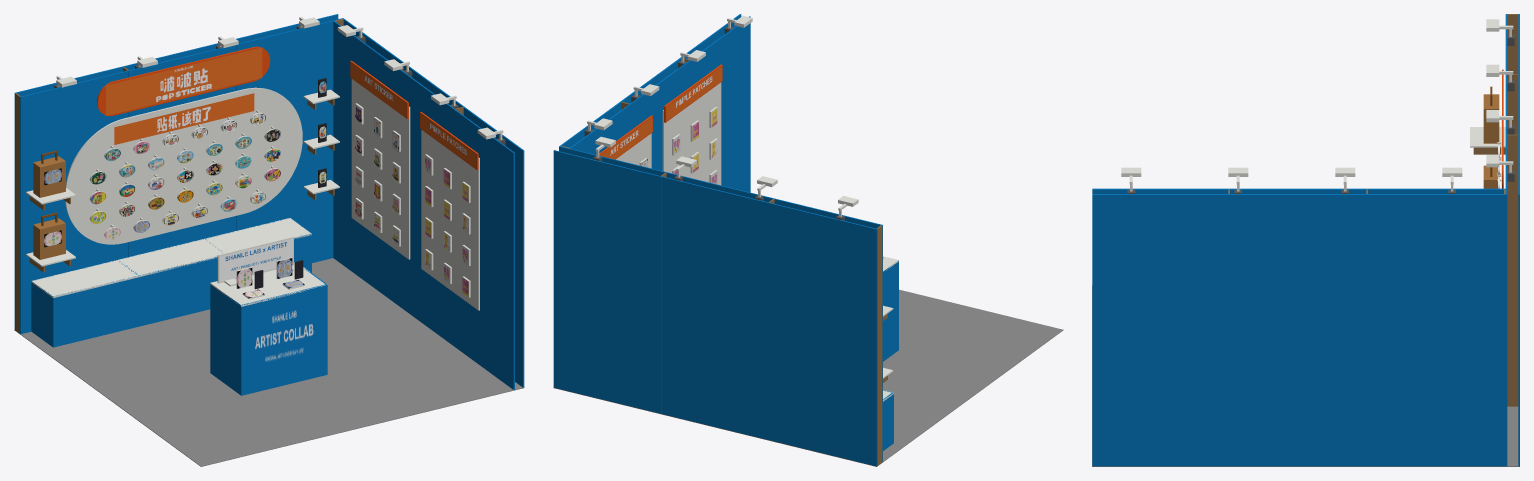
File: booth-textured.glb
3 views of the same model, side by side, from view 1: azimuth 30°, elevation 25°; view 2: azimuth 150°, elevation 25°; view 3: azimuth 270°, elevation 25° (orthographic). The views are drawn at different scales.
Parts seen in each view (by area): view 1: booth, booth_9, booth_5, original_brand_lettering, collab_front, original_slogan_cn, booth_7, booth_6, booth_8, collab_story, art_label, pimple_label; view 2: booth, booth_5, booth_9, booth_6, pimple_label, art_label, booth_8; view 3: booth, booth_6, booth_9, booth_5, booth_7, booth_3.
Part boxes in pixels (bbox=[...]): booth: bbox=[14, 14, 524, 395]; booth_9: bbox=[26, 16, 503, 310]; booth_5: bbox=[14, 258, 524, 466]; original_brand_lettering: bbox=[106, 47, 262, 115]; collab_front: bbox=[243, 298, 325, 374]; original_slogan_cn: bbox=[114, 93, 254, 144]; booth_7: bbox=[33, 156, 65, 259]; booth_6: bbox=[15, 19, 463, 333]; booth_8: bbox=[97, 46, 478, 170]; collab_story: bbox=[219, 238, 292, 281]; art_label: bbox=[350, 62, 406, 117]; pimple_label: bbox=[420, 113, 476, 168]; booth: bbox=[553, 14, 898, 466]; booth_5: bbox=[553, 289, 1063, 466]; booth_9: bbox=[587, 16, 898, 401]; booth_6: bbox=[561, 58, 887, 465]; pimple_label: bbox=[666, 66, 722, 121]; art_label: bbox=[600, 117, 652, 159]; booth_8: bbox=[599, 64, 722, 159]; booth: bbox=[1092, 14, 1519, 466]; booth_6: bbox=[1228, 14, 1518, 406]; booth_9: bbox=[1121, 19, 1513, 191]; booth_5: bbox=[1092, 285, 1519, 466]; booth_7: bbox=[1483, 94, 1499, 188]; booth_3: bbox=[1127, 35, 1514, 193].
Bounding box in the file's own units: 3 × 2.21 × 3.
65 materials, 55 textured.
